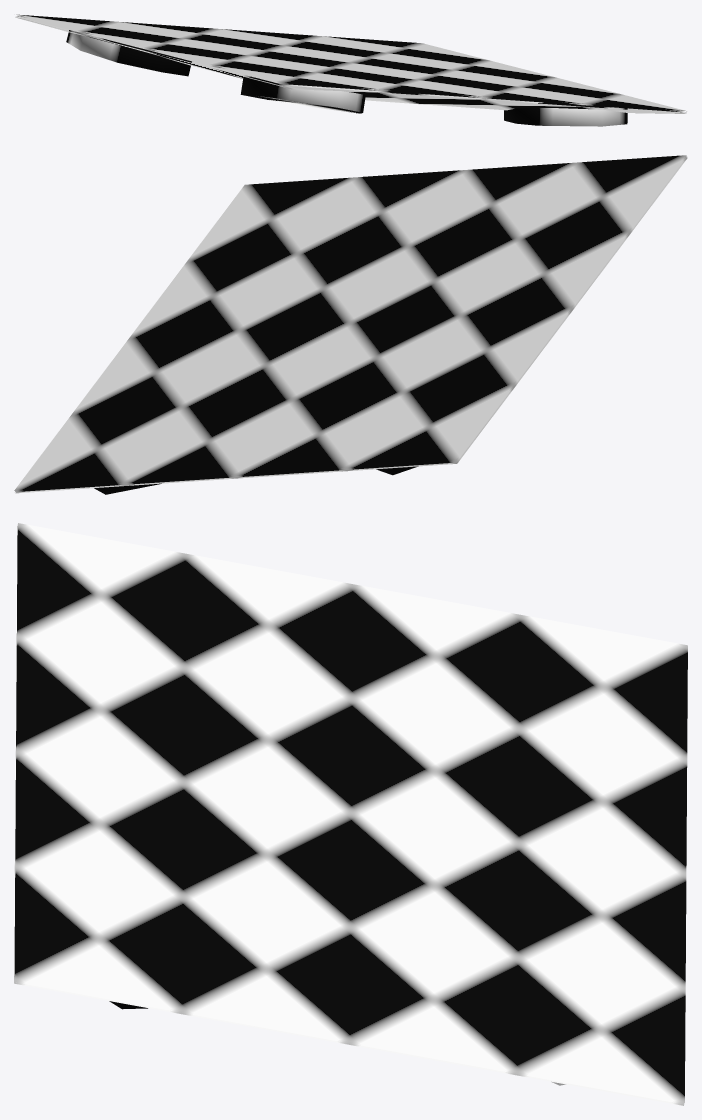
The model's file is initqu76.dae.
The picture shows the model from 3 angles, top to bottom: view 1: azimuth 30°, elevation 25°; view 2: azimuth 150°, elevation 25°; view 3: azimuth 270°, elevation 25°; orthographic projection. The views are drawn at different scales.
Visible parts, largest first — view 1: item; view 2: item; view 3: item.
Part boxes in pixels (x1,y1,x2,y2): item: (15,14,686,126); item: (14,155,687,494); item: (14,523,687,1105).
Size of the model in its own units: 1.39 by 1.33 by 0.7029.
Materials: 1 (1 with a texture image).
